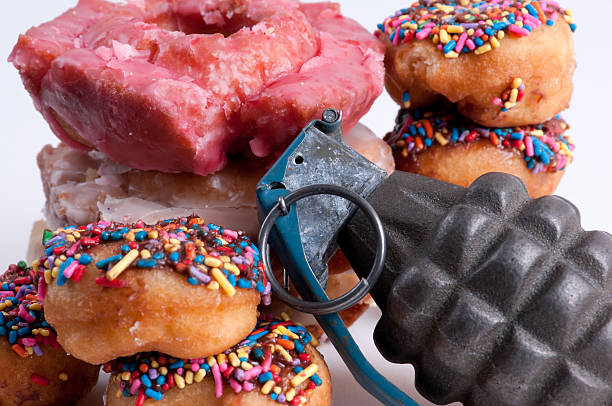e1: (256, 104, 612, 399)
